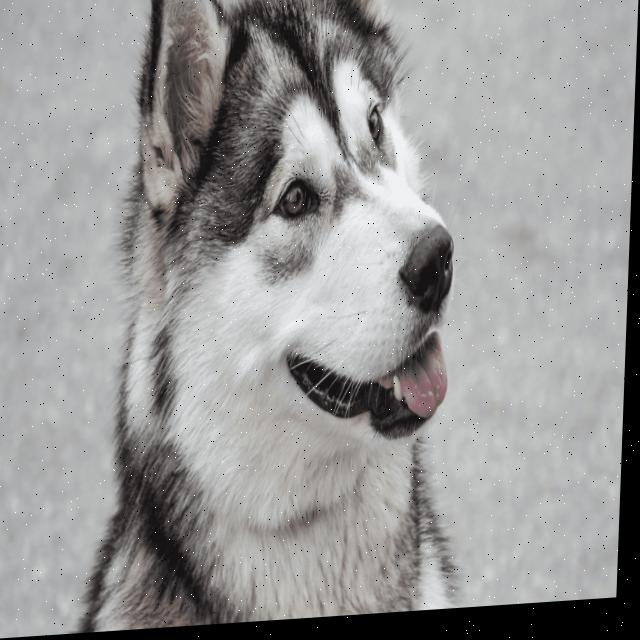ALASKAN_MALAMUTE: (79, 0, 498, 635)
